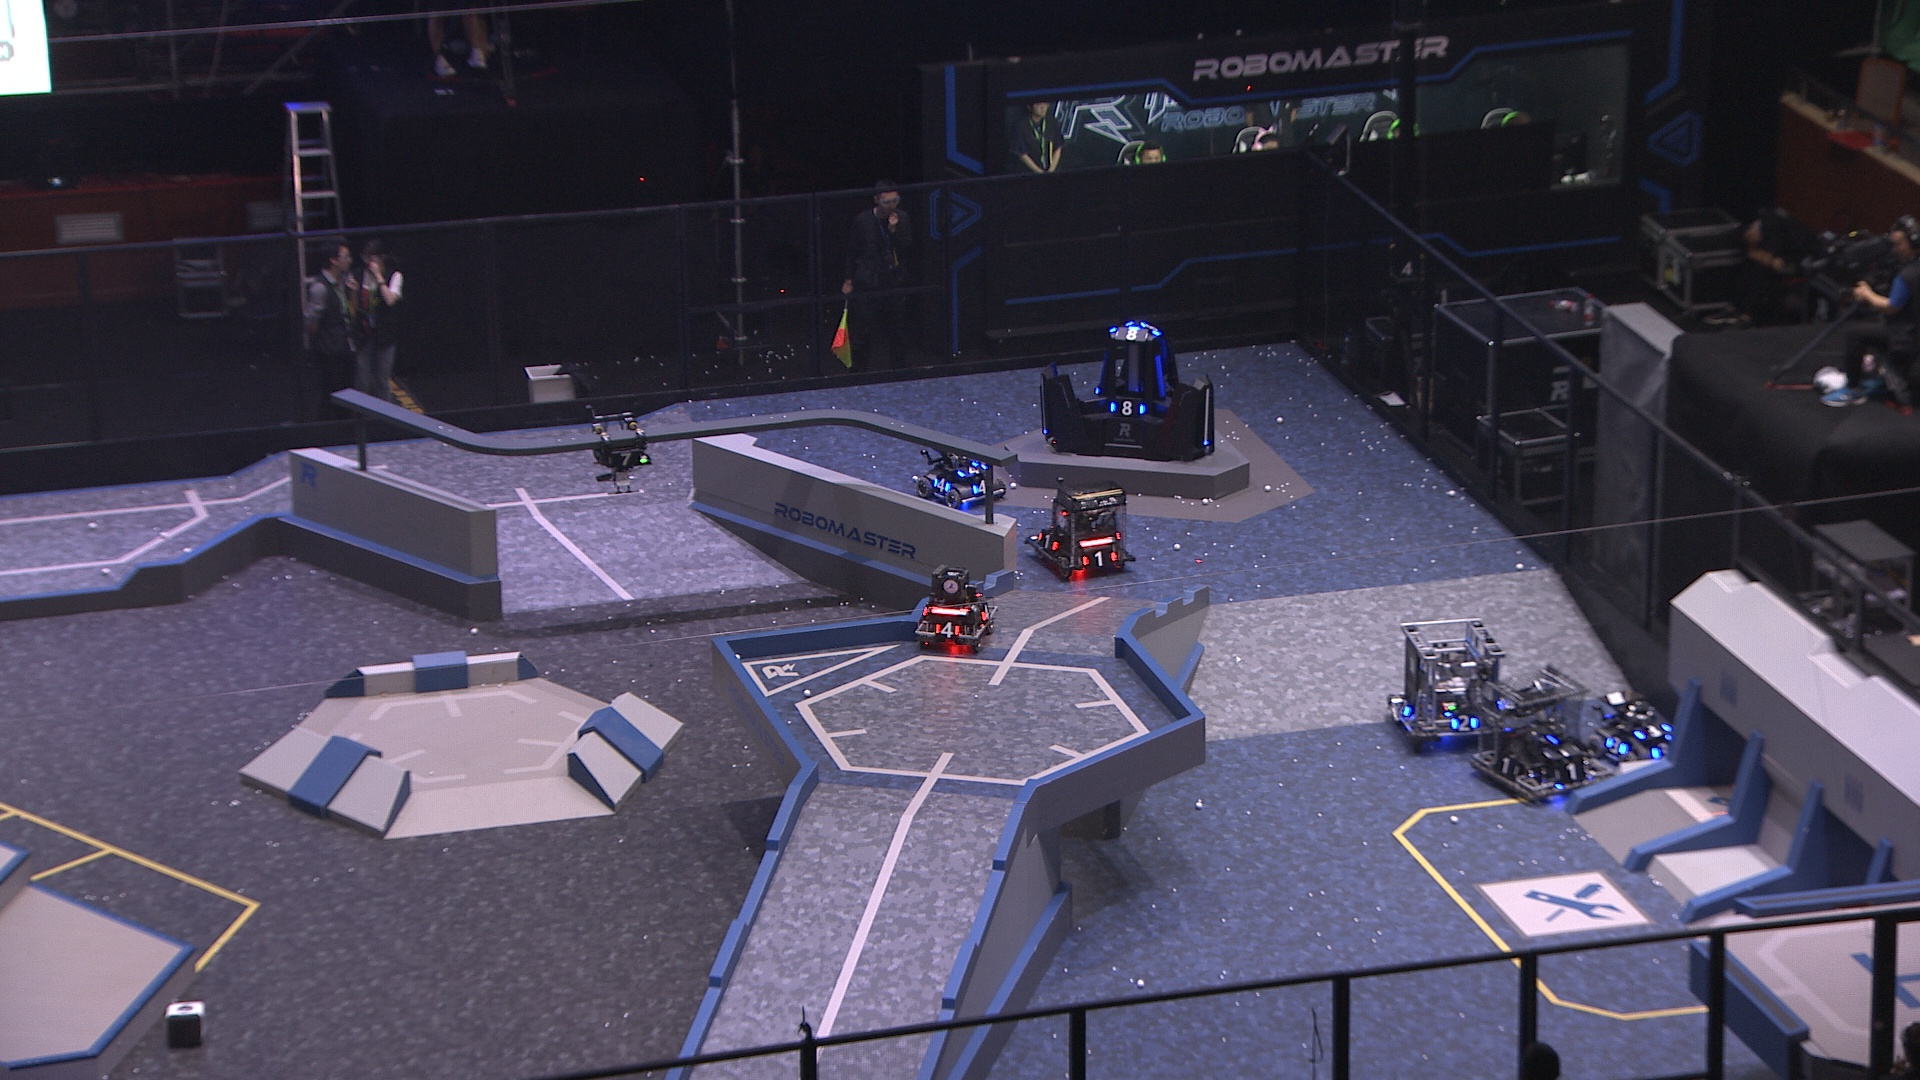armor: (1551, 756, 1590, 783), (1105, 396, 1149, 419), (1543, 737, 1582, 761), (1081, 546, 1120, 570), (605, 450, 650, 469), (1633, 719, 1671, 741), (1149, 356, 1168, 398), (1033, 531, 1064, 555), (1491, 754, 1522, 778), (1448, 712, 1480, 735), (1648, 740, 1677, 764), (932, 618, 964, 638), (1600, 736, 1629, 757), (955, 458, 984, 479), (975, 599, 997, 624), (931, 475, 955, 495), (1394, 698, 1414, 717), (972, 479, 992, 496)
base: (1039, 313, 1215, 463)
car: (1468, 659, 1618, 804), (1381, 618, 1509, 752), (1025, 477, 1135, 578), (910, 560, 1005, 651), (1584, 687, 1689, 769), (913, 433, 1007, 509)
ignore: (1114, 327, 1149, 343)
watcher: (585, 407, 655, 498)
